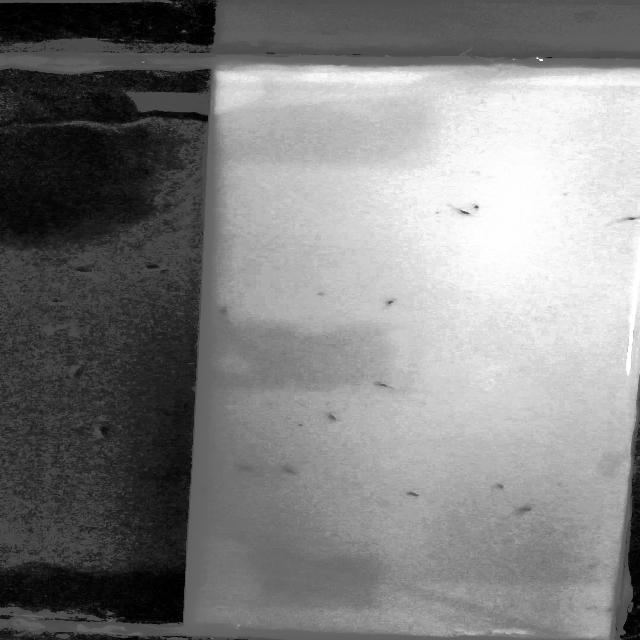shrimp: (392, 485, 438, 505), (438, 202, 480, 218), (212, 302, 240, 326), (361, 377, 405, 392), (278, 460, 308, 482), (603, 211, 640, 228), (316, 406, 347, 425), (463, 200, 501, 214), (374, 296, 411, 308), (512, 500, 540, 515), (489, 482, 520, 494), (233, 461, 252, 479), (193, 486, 220, 498)
